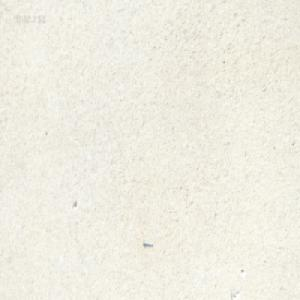Nail: (142, 240, 153, 248)
